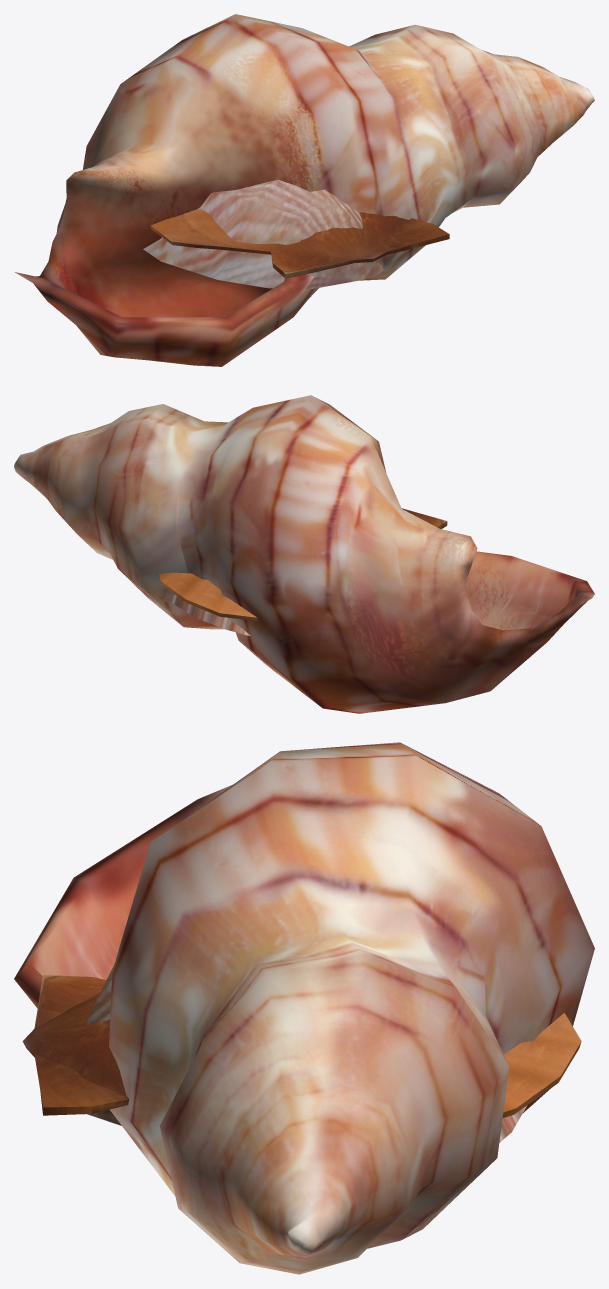
The model's file is Seashell02.fbx.
3 views of the same model, one above another, from view 1: azimuth 30°, elevation 25°; view 2: azimuth 150°, elevation 25°; view 3: azimuth 270°, elevation 25° (orthographic). The views are drawn at different scales.
Parts seen in each view (by area): view 1: seashell2, seashell3, seashell1; view 2: seashell2, seashell1, seashell3; view 3: seashell2, seashell1, seashell3.
Part boxes in pixels (bbox=[...]): seashell2: bbox=[15, 14, 594, 366]; seashell3: bbox=[143, 179, 383, 288]; seashell1: bbox=[150, 209, 449, 278]; seashell2: bbox=[14, 395, 594, 713]; seashell1: bbox=[159, 508, 447, 621]; seashell3: bbox=[167, 595, 250, 635]; seashell2: bbox=[14, 742, 594, 1274]; seashell1: bbox=[22, 975, 581, 1117]; seashell3: bbox=[86, 966, 527, 1142].
Size of the model in its own units: 189 by 90.47 by 95.8.
